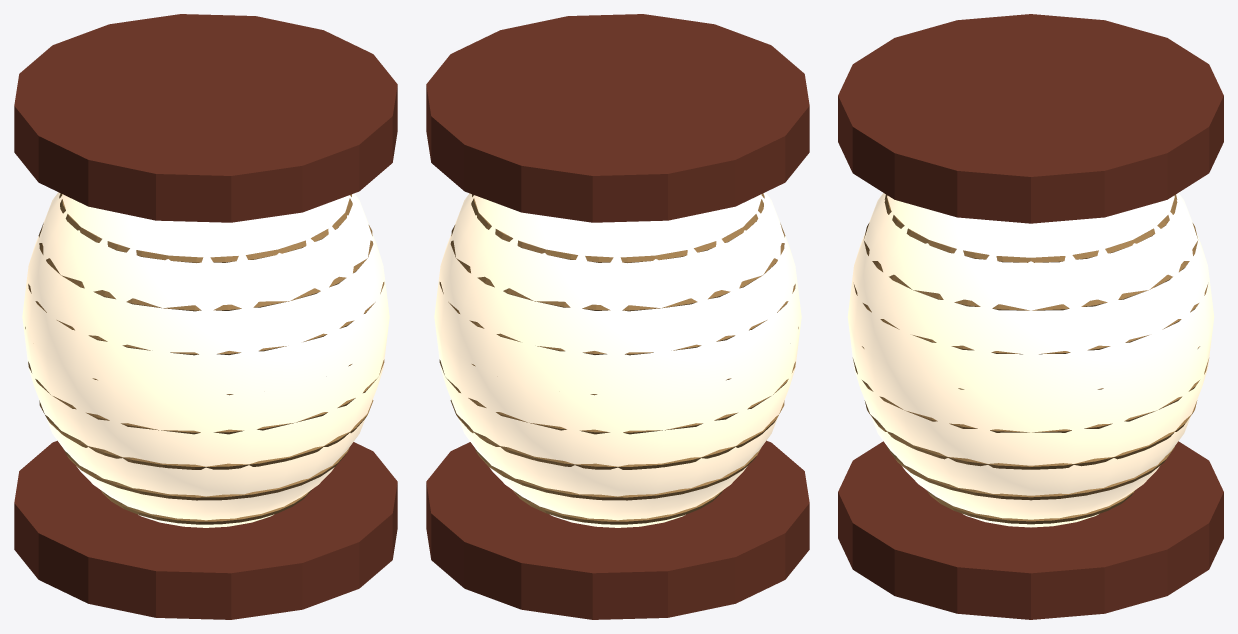
File: paper_lantern.glb
The picture shows the model from 3 angles, left to right: view 1: azimuth 30°, elevation 25°; view 2: azimuth 150°, elevation 25°; view 3: azimuth 270°, elevation 25°; orthographic projection.
Parts seen in each view (by area): view 1: Lantern; view 2: Lantern; view 3: Lantern.
Part boxes in pixels (x1,y1,x2,y2): Lantern: (14,14,397,619); Lantern: (426,14,809,619); Lantern: (838,14,1223,619).
Size of the model in its own units: 0.6 by 0.76 by 0.6.
